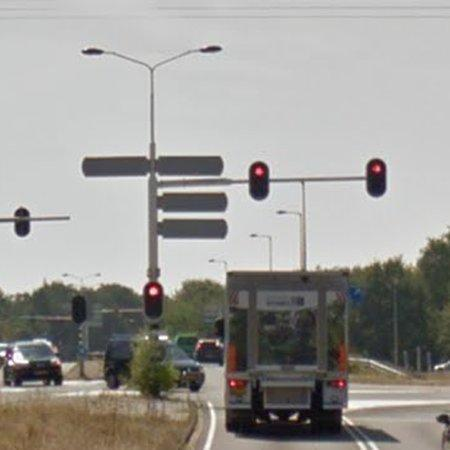traffic lights: (365, 158, 387, 197), (249, 161, 269, 201)
